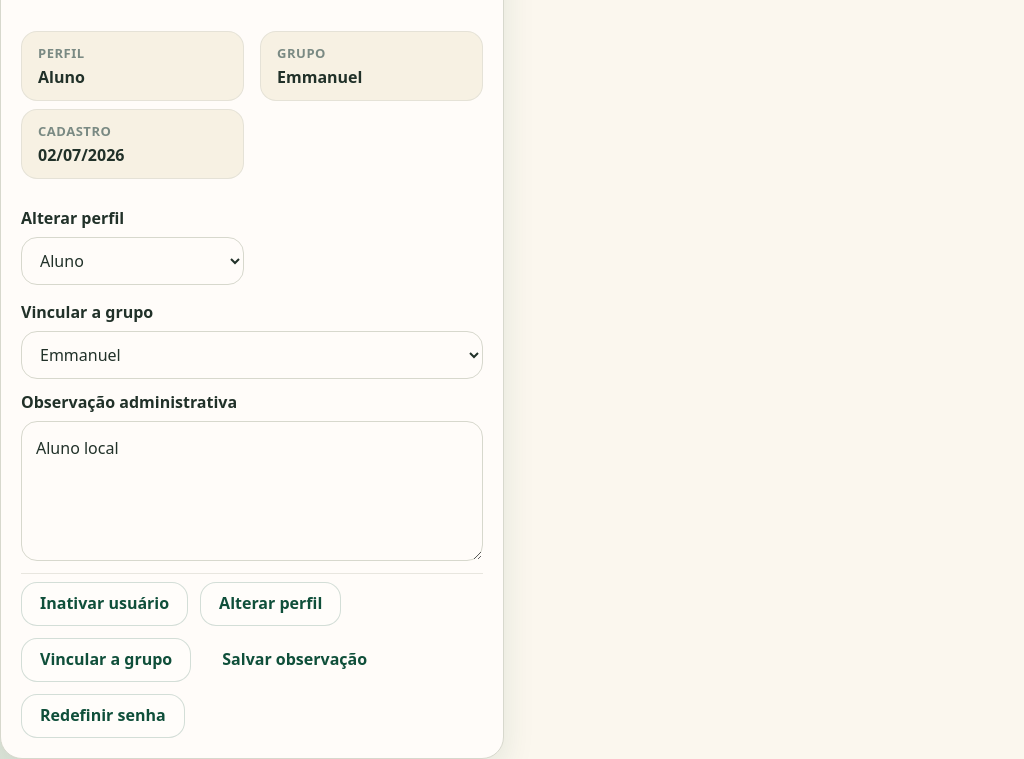
Test case: admin password reset ui › mostra mensagem de rate limit no reset administrativo
(page scrolled)
Click the button with aria-label "Redefinir senha de Aluno Demonstrativo".
click(103, 716)  # box [21,694,185,738]
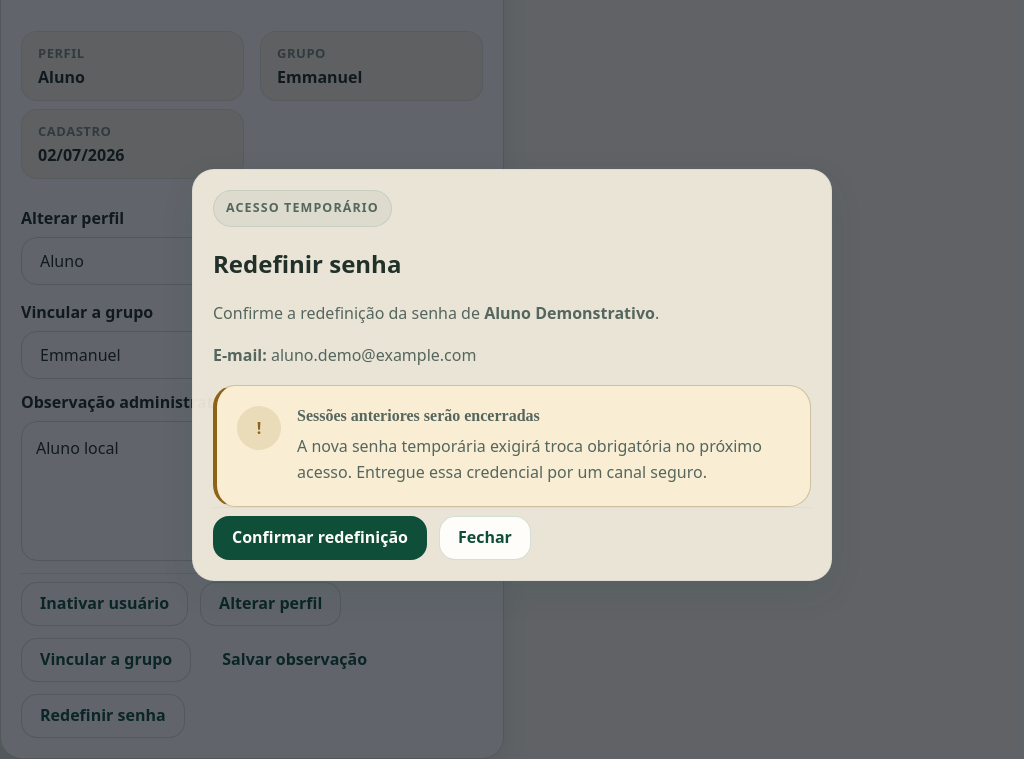
Click the button "Confirmar redefinição".
click(320, 538)  # box [213,516,427,560]
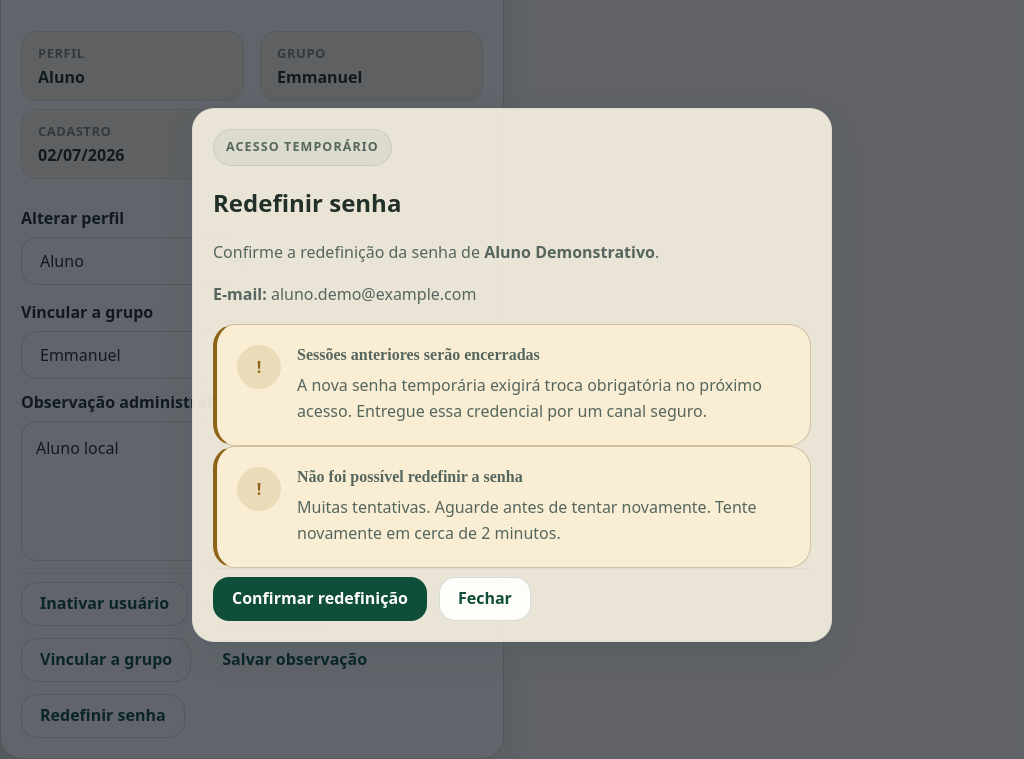
Now the text "Muitas tentativas. Aguarde antes de tentar novamente. Tente novamente em cerca de 2 minutos." is shown, box [297,496,757,544]
